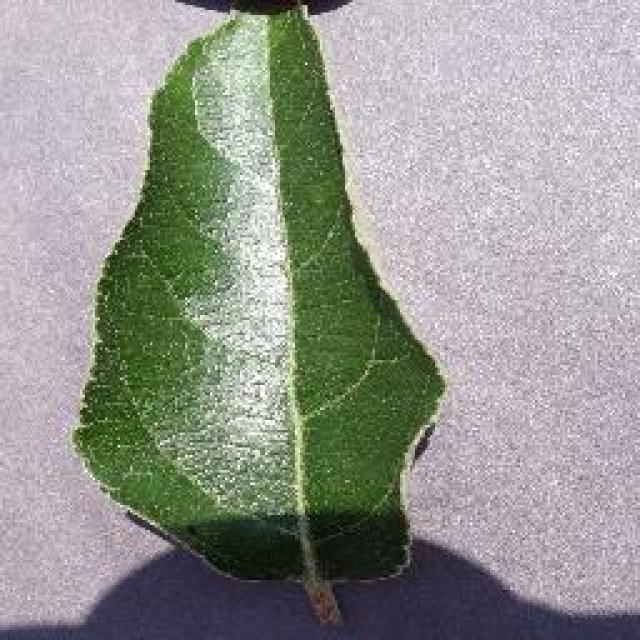apple healthy: (70, 0, 450, 620)
